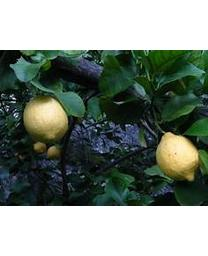lemon: (156, 133, 199, 182), (25, 96, 70, 140)
